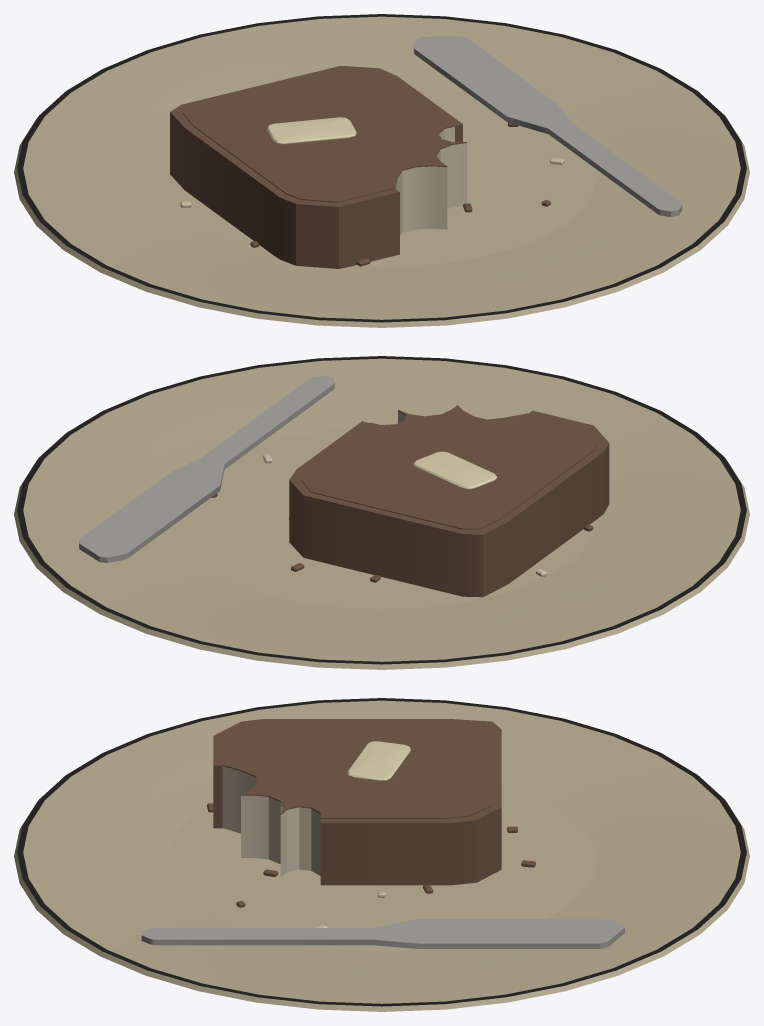
Rendered from breakfast-plate-d9cd7ad3764b.glb.
The picture shows the model from 3 angles, top to bottom: view 1: azimuth 30°, elevation 25°; view 2: azimuth 150°, elevation 25°; view 3: azimuth 270°, elevation 25°; orthographic projection.
Parts seen in each view (by area): view 1: enamel-beige, wood, brushed, enamel-black, paper, dial-cream; view 2: enamel-beige, wood, brushed, enamel-black, dial-cream; view 3: enamel-beige, wood, brushed, enamel-black, paper, dial-cream.
Part boxes in pixels (bbox=[...]): enamel-beige: bbox=[14, 16, 749, 327]; wood: bbox=[170, 66, 550, 268]; brushed: bbox=[413, 36, 682, 216]; enamel-black: bbox=[17, 14, 746, 322]; paper: bbox=[180, 126, 564, 236]; dial-cream: bbox=[267, 117, 356, 144]; enamel-beige: bbox=[14, 358, 749, 669]; wood: bbox=[211, 405, 609, 597]; brushed: bbox=[79, 375, 334, 562]; enamel-black: bbox=[17, 356, 746, 664]; dial-cream: bbox=[413, 451, 497, 489]; enamel-beige: bbox=[14, 700, 749, 1011]; wood: bbox=[207, 719, 535, 907]; brushed: bbox=[141, 919, 624, 948]; enamel-black: bbox=[17, 698, 746, 1006]; paper: bbox=[222, 766, 385, 927]; dial-cream: bbox=[347, 741, 410, 781].
Bounding box in the file's own units: 0.24 × 0.028 × 0.24.
